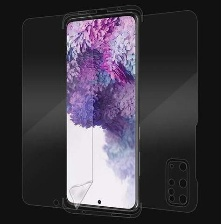phone: (60, 7, 143, 213)
